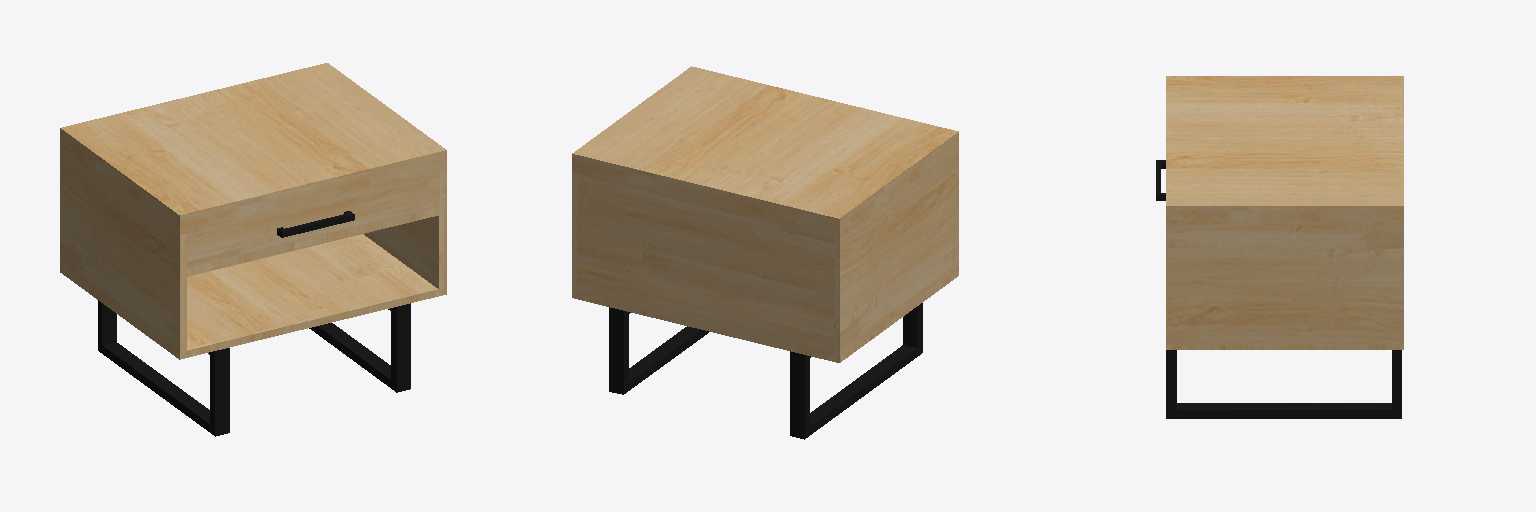
The picture shows the model from 3 angles: view 1: azimuth 30°, elevation 25°; view 2: azimuth 150°, elevation 25°; view 3: azimuth 270°, elevation 25°; orthographic projection.
Visible parts, largest first — view 1: Side_Table; view 2: Side_Table; view 3: Side_Table.
Boxes of the visible parts, box(x1,y1,x2,y2) form: Side_Table: box(60, 63, 446, 436); Side_Table: box(572, 66, 958, 439); Side_Table: box(1156, 76, 1403, 418).
Size of the model in its own units: 52.65 by 43.35 by 42.42.
1 materials, 1 textured.